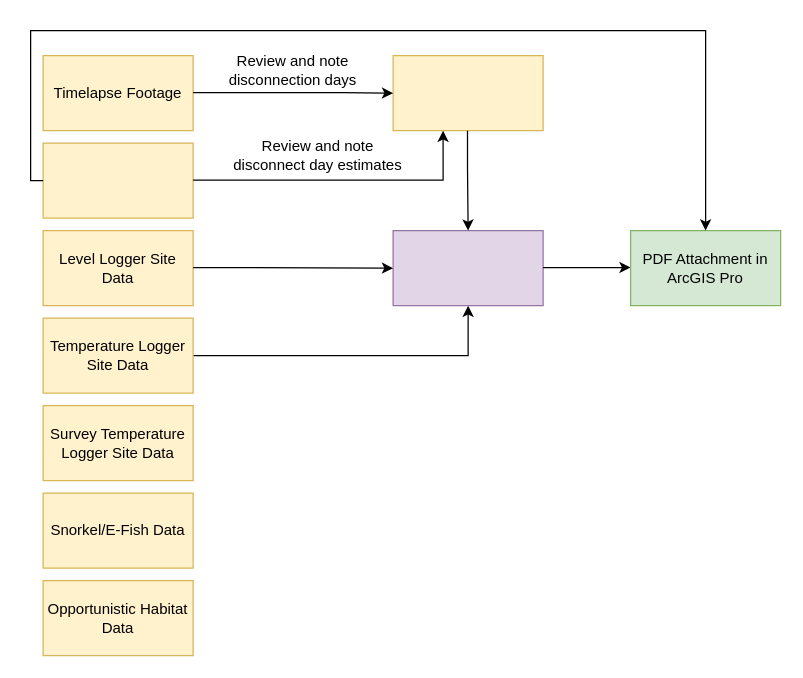
Some shapes in this 803 by 678 pixel diagram are drawn without their labels. Here are the shapes that lost their labels. From the top down, the box of each, then its label:
(392, 54, 543, 131): Disconnection Day/Estimates Data
(42, 142, 193, 218): Notes of Sites
(392, 229, 543, 306): Graph of Temporal Data with Disconnection Periods
